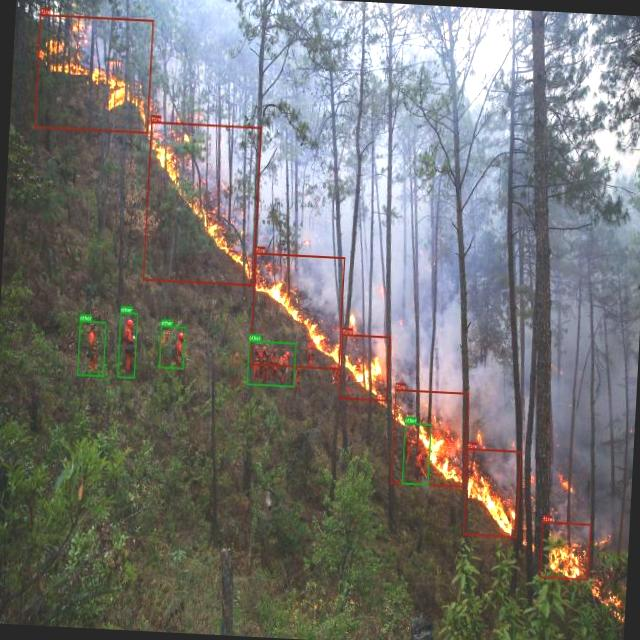fire: (143, 121, 262, 286), (34, 14, 154, 134), (249, 252, 345, 370), (391, 389, 468, 487), (463, 448, 521, 538), (339, 334, 390, 401), (540, 521, 592, 580)
